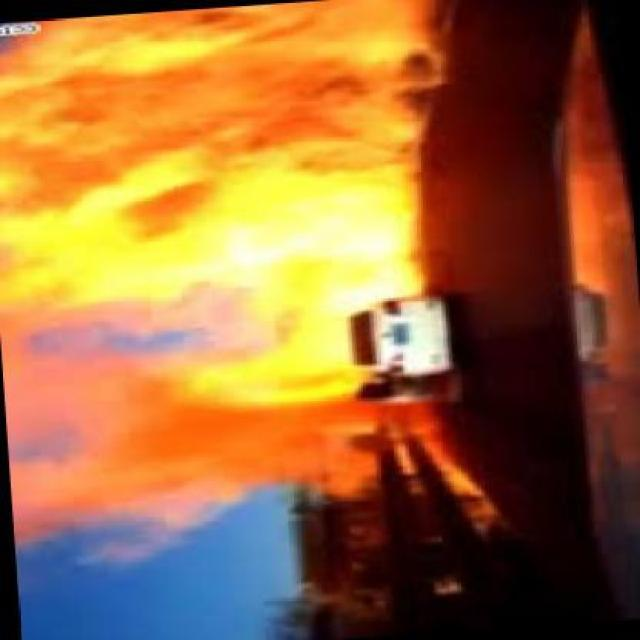Fire: (0, 21, 424, 273), (0, 319, 350, 544)
